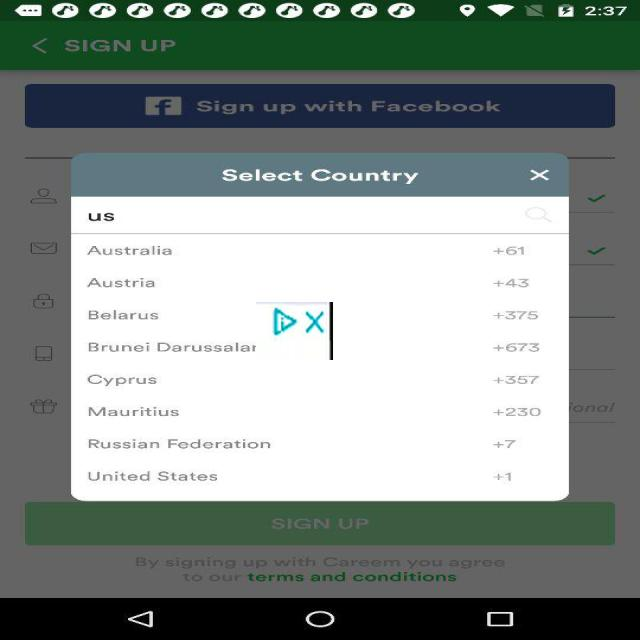sneaking: (256, 302, 333, 360)
